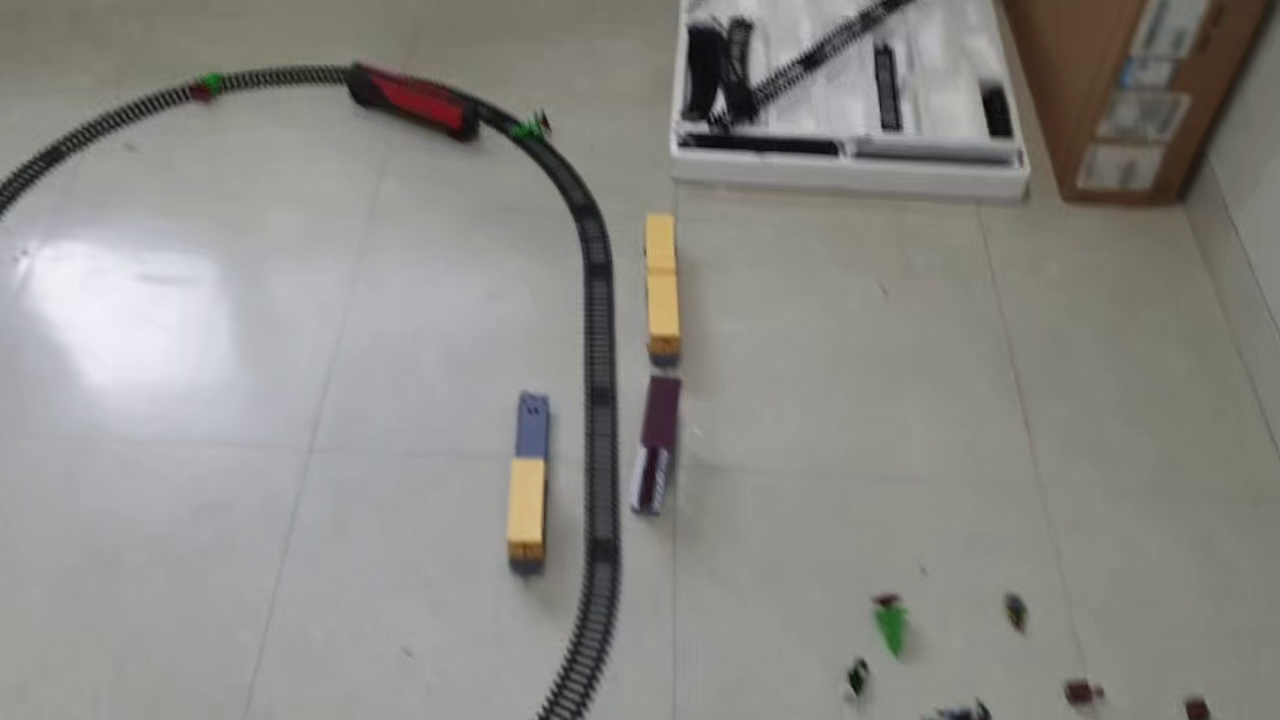box: (1060, 678, 1110, 706), (1182, 697, 1211, 720)
people: (845, 654, 873, 704), (1001, 593, 1030, 632)
tree: (869, 589, 912, 665), (502, 109, 553, 143), (188, 73, 224, 106)
